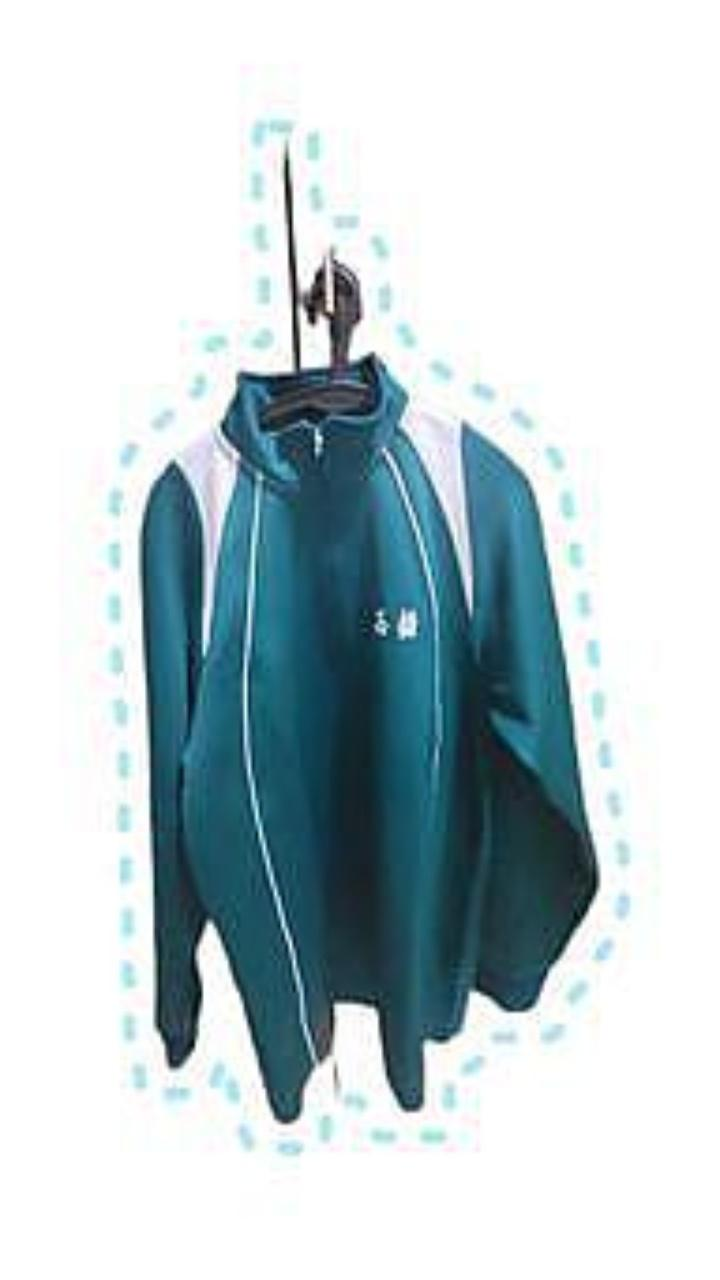Sports_Jacket: (141, 352, 598, 1120)
